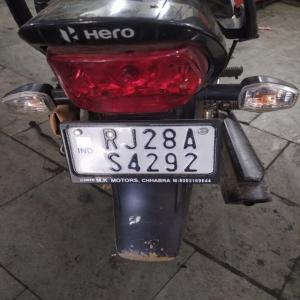Plate: (70, 123, 212, 175)
